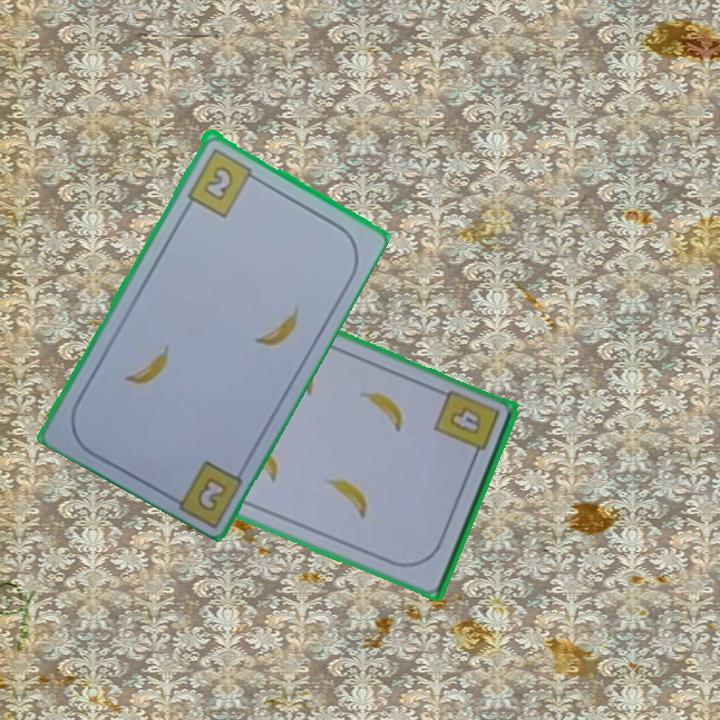2b: (184, 144, 262, 220), (196, 476, 227, 511)
4b: (431, 386, 503, 466)
